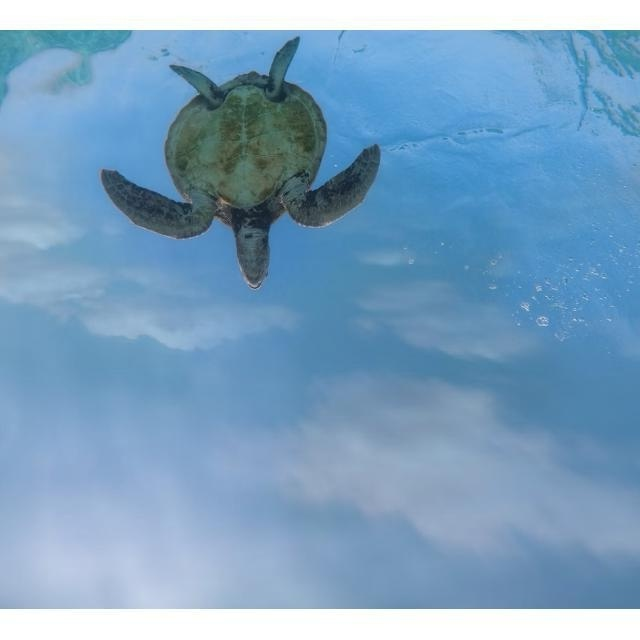turtle: (99, 36, 381, 290)
